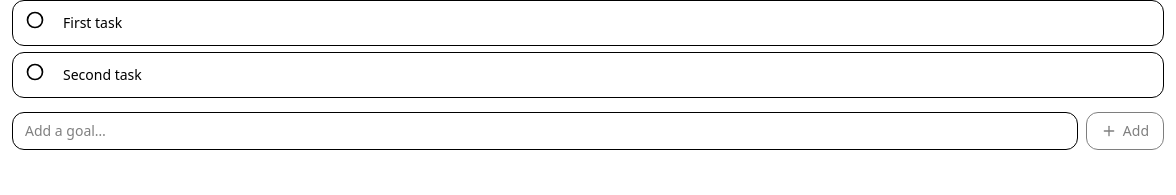
Test case: GoalsList - Reorder › shows a drag handle only for the task being edited
// Editing a task reveals its handle
Click the button "First task" at (93, 22), box [55,9,1141,37]
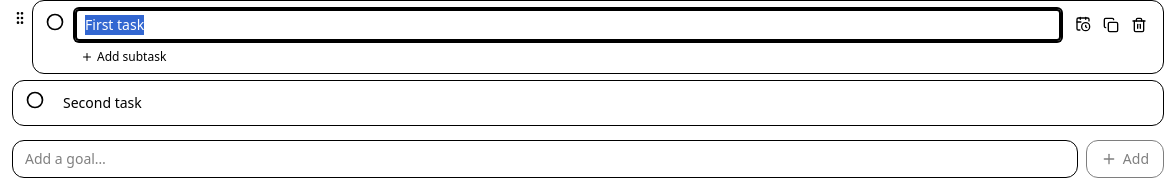
Expected: the number of buttons named "Drag to reorder" is 1, [12,10,28,26]
